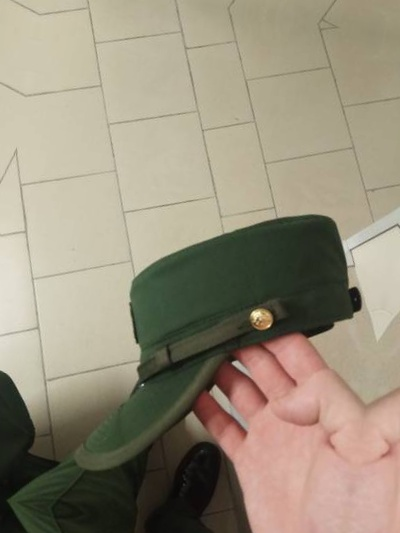Hat: (34, 142, 376, 526), (372, 201, 400, 533)
